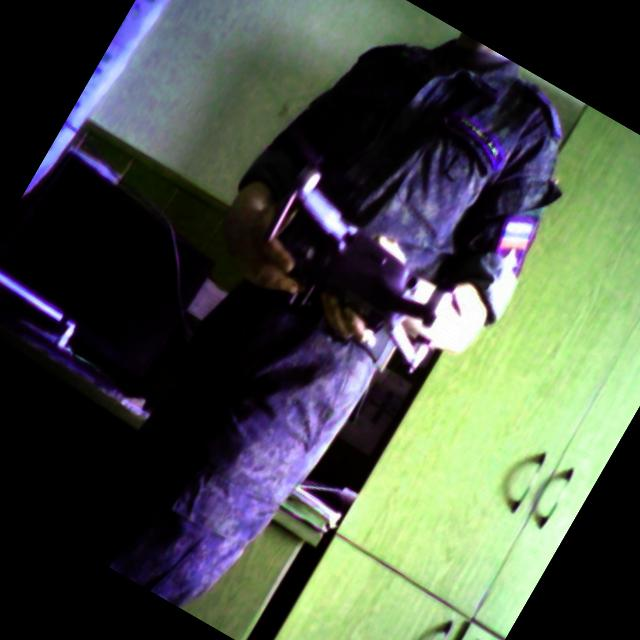drone: (202, 112, 511, 398)
